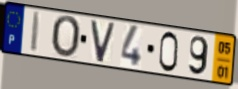0: (157, 30, 180, 73)
4: (120, 23, 144, 70)
9: (187, 35, 210, 78)
I: (29, 10, 43, 55)
O: (51, 14, 83, 60)
V: (89, 19, 117, 65)
